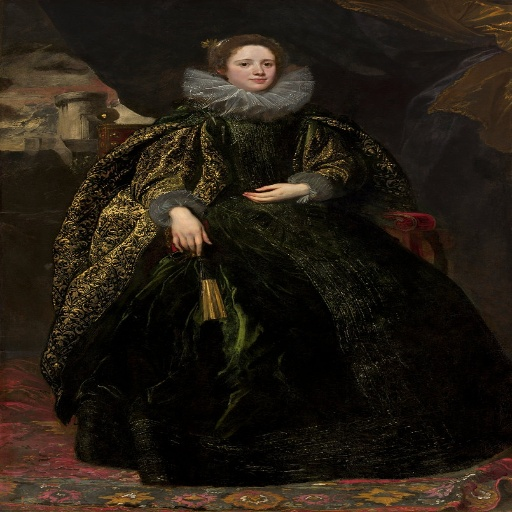hand: (158, 198, 209, 254), (236, 180, 306, 207)
